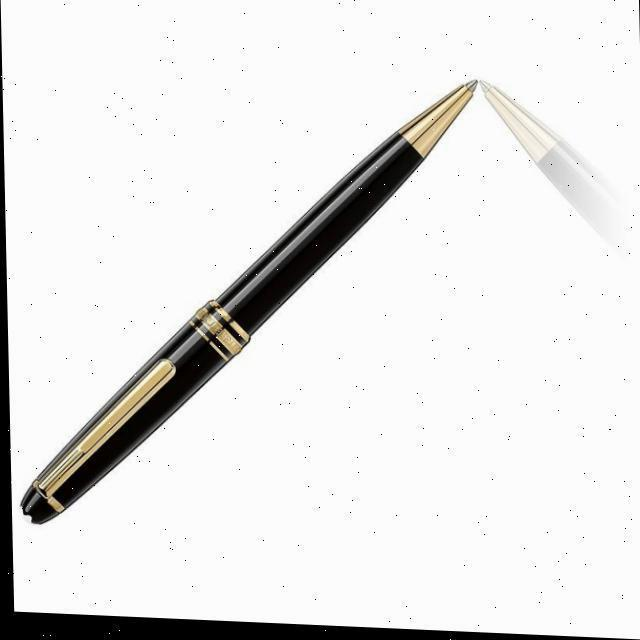pen: (9, 64, 488, 547)
